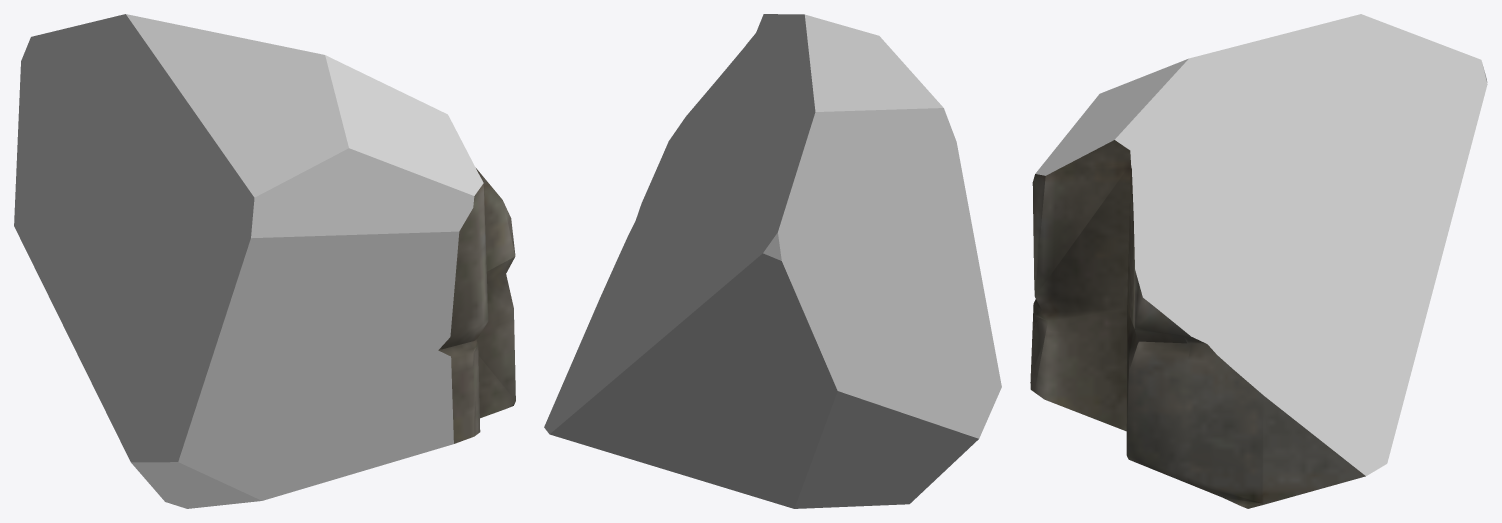
Rendered from ColumnDamage08_23.fbx.
3 views of the same model, side by side, from view 1: azimuth 30°, elevation 25°; view 2: azimuth 150°, elevation 25°; view 3: azimuth 270°, elevation 25° (orthographic). The views are drawn at different scales.
Visible parts, largest first — view 1: ColumnDamage08_DM.023; view 2: ColumnDamage08_DM.023; view 3: ColumnDamage08_DM.023.
Boxes of the visible parts, x1,y1,x2,y2 form: ColumnDamage08_DM.023: [14, 14, 515, 508]; ColumnDamage08_DM.023: [544, 14, 1001, 508]; ColumnDamage08_DM.023: [1030, 14, 1487, 508].
Bounding box in the file's own units: 118 × 143 × 148.
